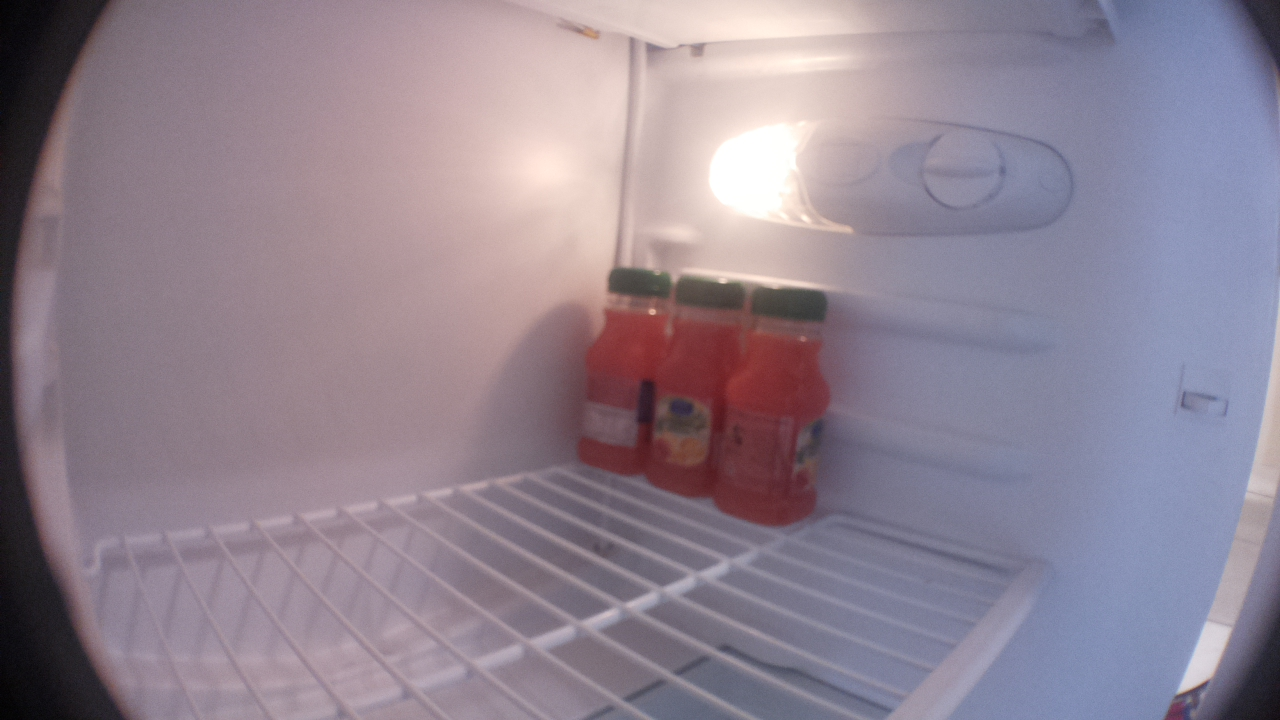juice: (709, 285, 833, 528), (645, 274, 720, 501), (577, 264, 655, 480)
